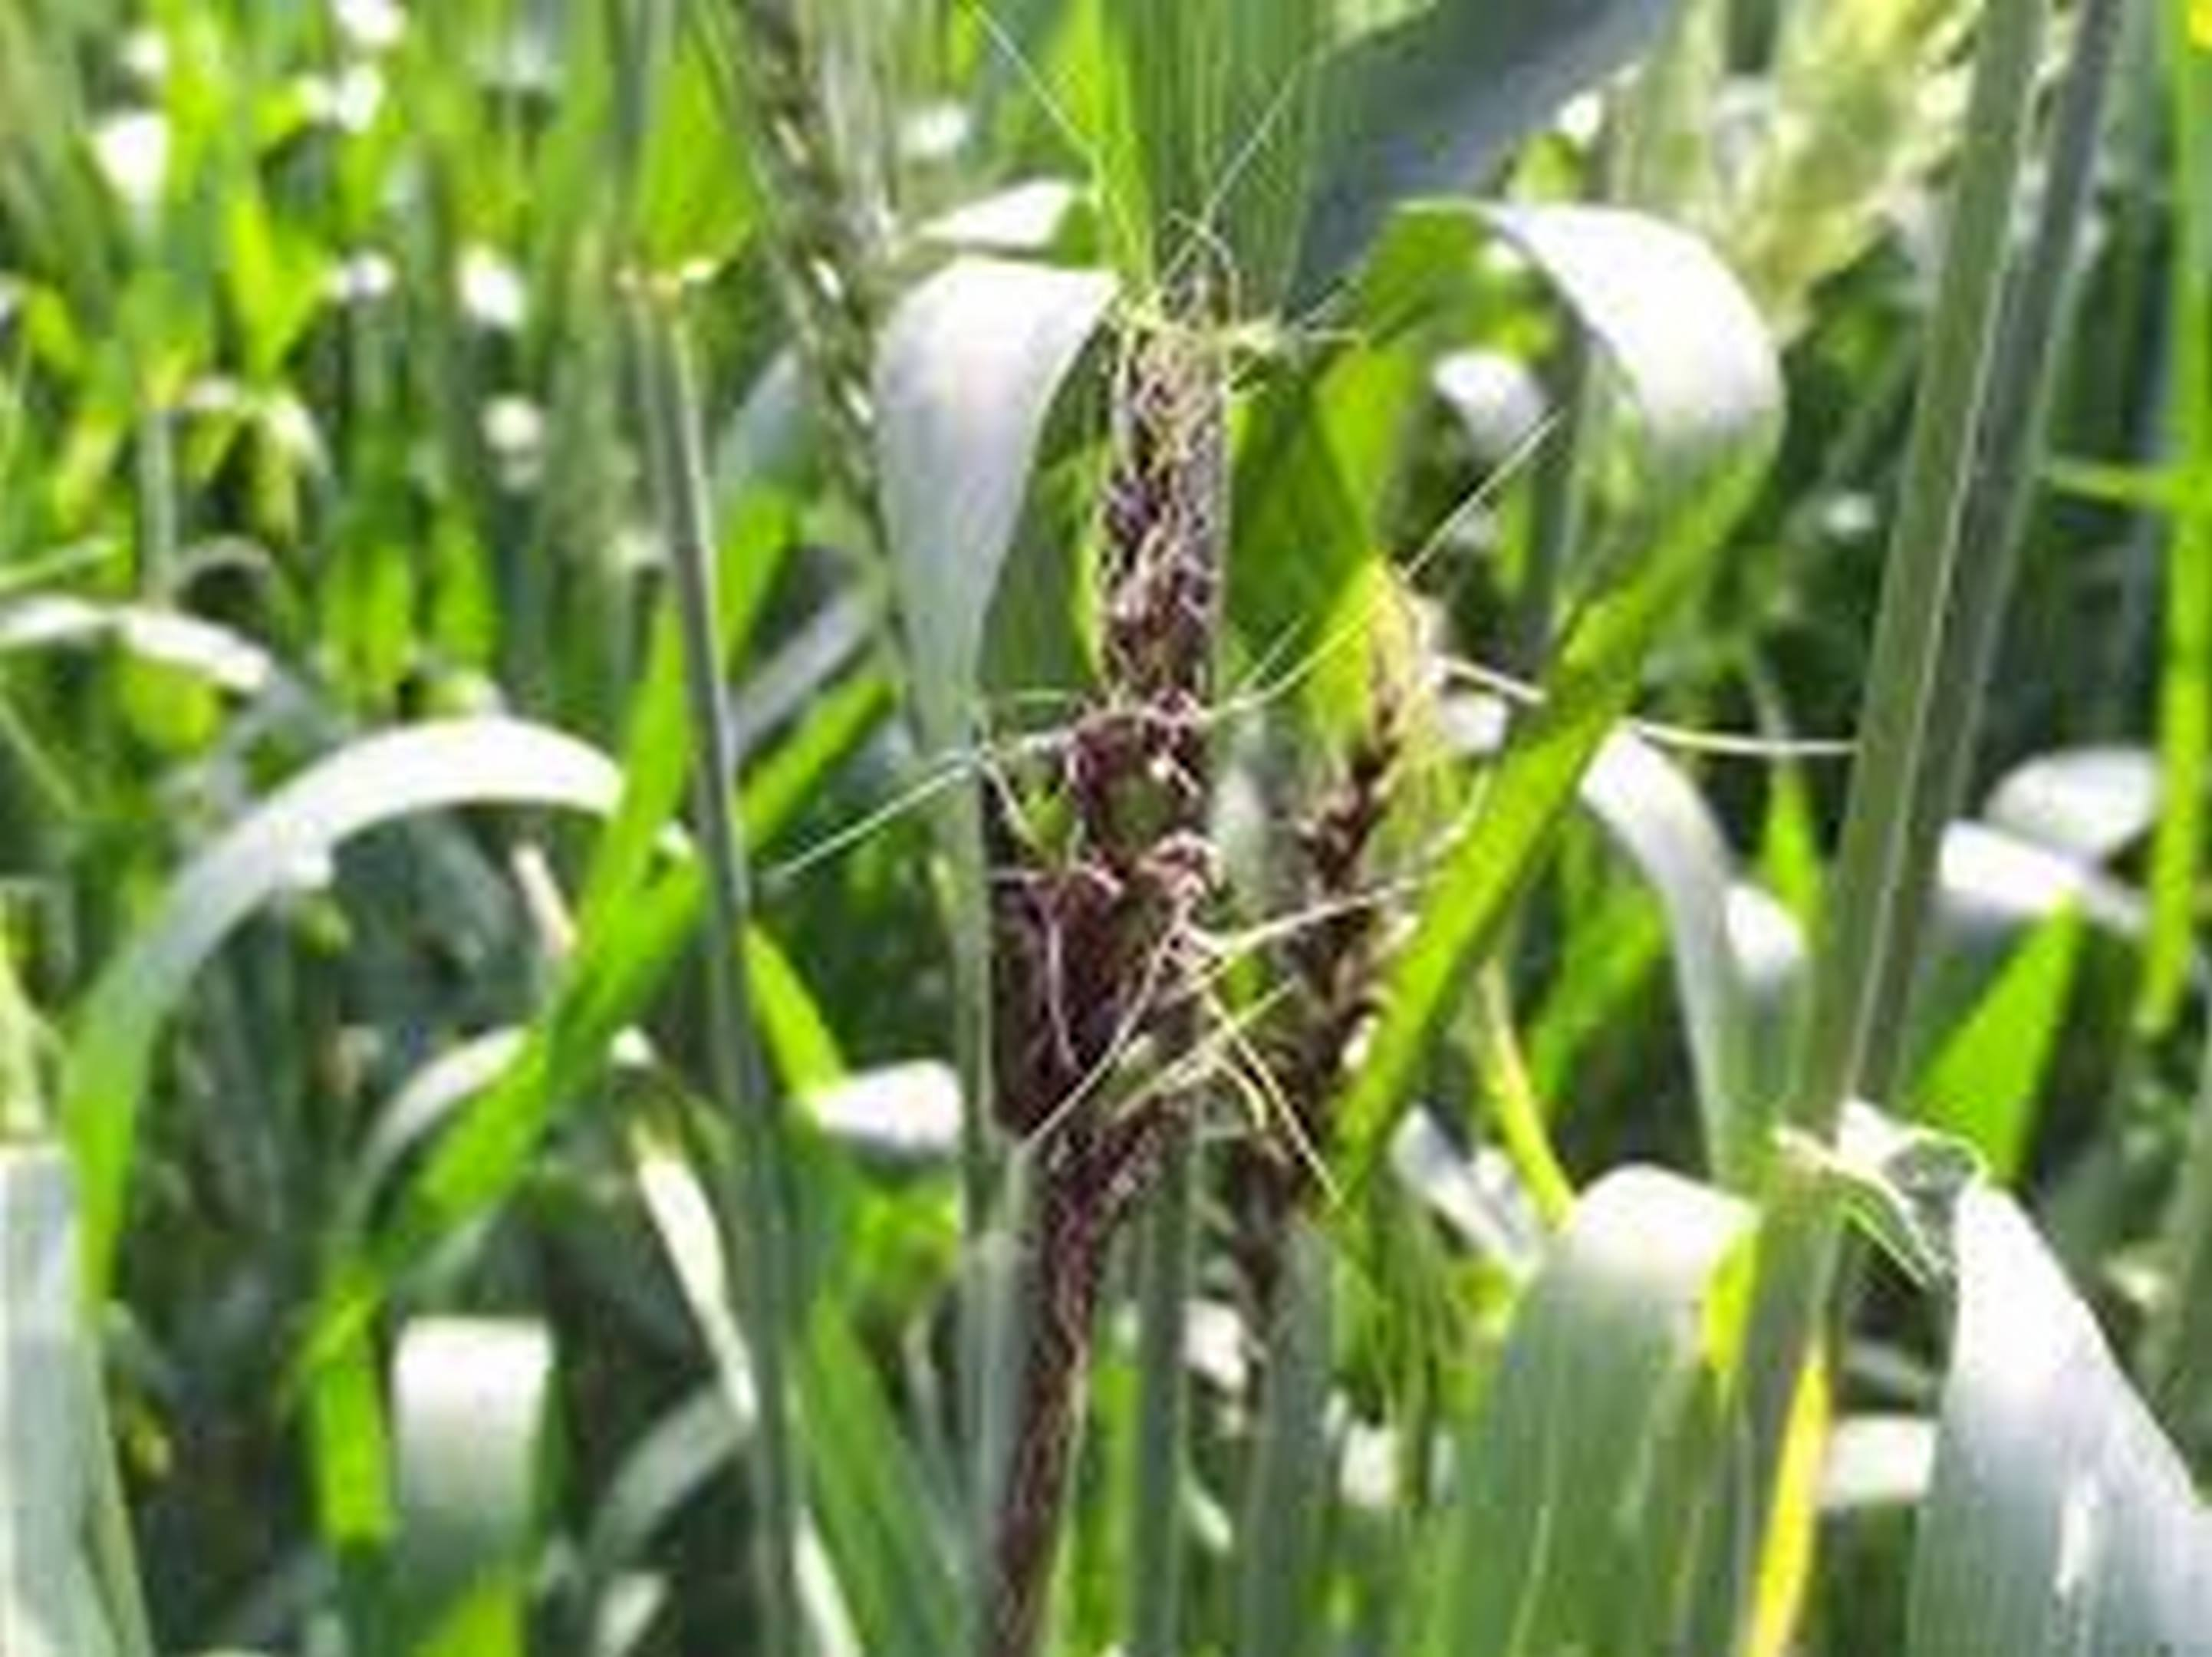Wheat Loose Smut: (990, 346, 1429, 1236)
